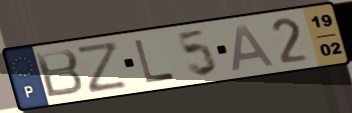2: (270, 16, 312, 66)
5: (173, 26, 219, 78)
A: (229, 22, 278, 74)
B: (32, 47, 86, 100)
L: (132, 38, 178, 85)
Z: (73, 39, 131, 96)
